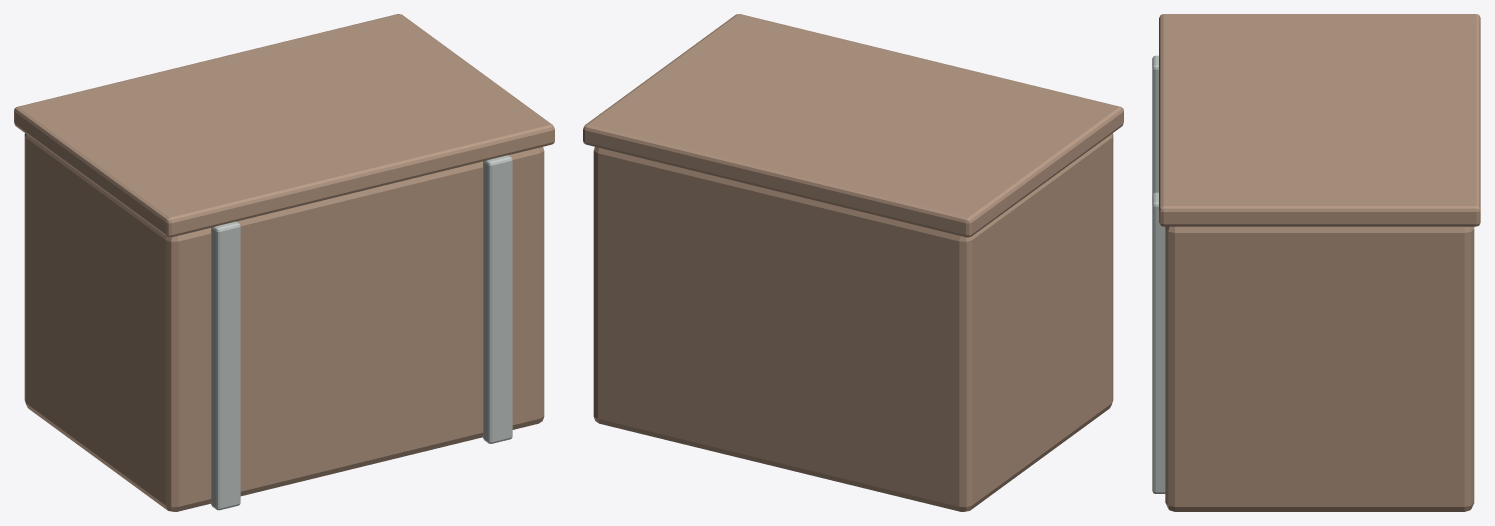
3 renders of one model, left to right at view 1: azimuth 30°, elevation 25°; view 2: azimuth 150°, elevation 25°; view 3: azimuth 270°, elevation 25°, orthographic. The views are drawn at different scales.
Visible parts, largest first — view 1: crate body, lid, reinforcement strap, reinforcement strap.001; view 2: crate body, lid; view 3: crate body, lid, reinforcement strap.001, reinforcement strap.
Boxes of the visible parts, x1,y1,x2,y2 form: crate body: (24,133,544,511); lid: (14,14,554,237); reinforcement strap: (211,221,240,510); reinforcement strap.001: (483,155,512,443); crate body: (593,133,1113,511); lid: (583,14,1123,237); crate body: (1165,226,1474,511); lid: (1159,14,1480,226); reinforcement strap.001: (1152,192,1165,493); reinforcement strap: (1152,55,1158,194).
Size of the model in its own units: 0.72 by 0.5325 by 0.5105.
